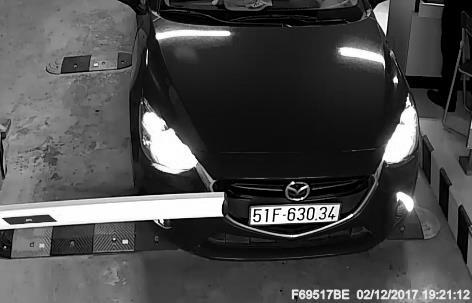License-plate: (245, 200, 345, 236)
